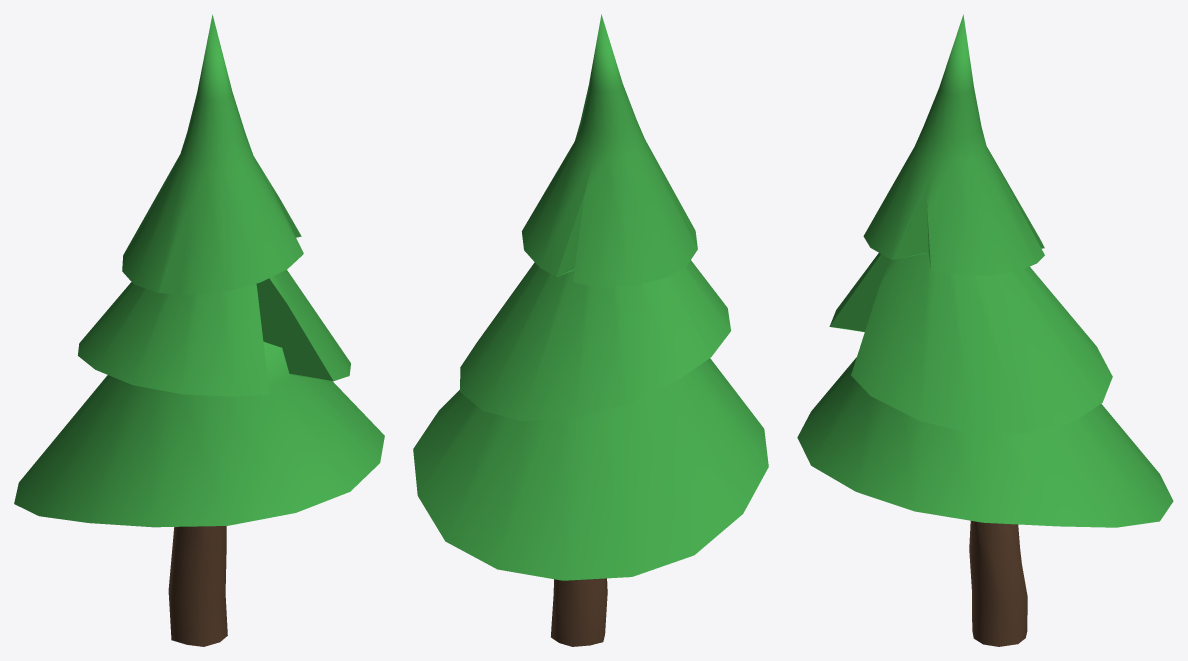
Rendered from WF_PCGTree.15.glb.
3 views of the same model, side by side, from view 1: azimuth 30°, elevation 25°; view 2: azimuth 150°, elevation 25°; view 3: azimuth 270°, elevation 25° (orthographic). The views are drawn at different scales.
Visible parts, largest first — view 1: Tree.15; view 2: Tree.15; view 3: Tree.15.
Part boxes in pixels (x1=…): Tree.15: x1=14, y1=14, x2=384, y2=646; Tree.15: x1=413, y1=14, x2=768, y2=646; Tree.15: x1=797, y1=14, x2=1173, y2=646.
Bounding box in the file's own units: 0.7182 × 1.36 × 0.7513.
